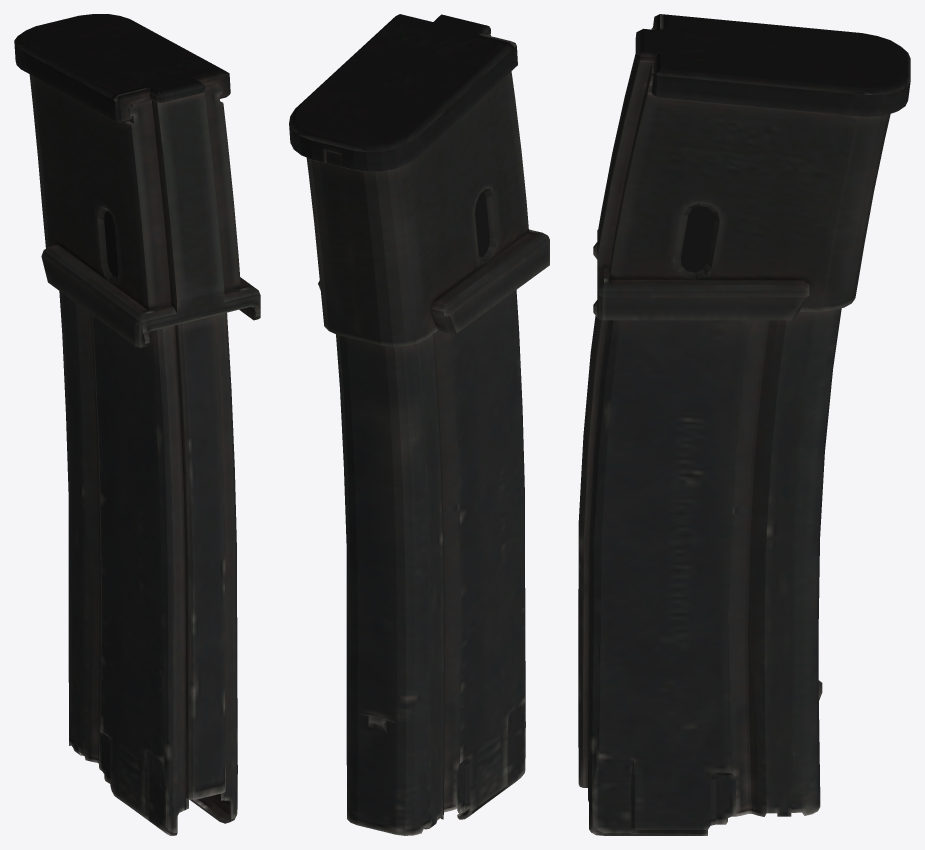
3 views of the same model, side by side, from view 1: azimuth 30°, elevation 25°; view 2: azimuth 150°, elevation 25°; view 3: azimuth 270°, elevation 25° (orthographic). The views are drawn at different scales.
Parts seen in each view (by area): view 1: TW_5ba2657ed4351e0035628ff2_PZ_Import; view 2: TW_5ba2657ed4351e0035628ff2_PZ_Import; view 3: TW_5ba2657ed4351e0035628ff2_PZ_Import.
Part boxes in pixels (x1,y1,x2,y2): TW_5ba2657ed4351e0035628ff2_PZ_Import: (14, 14, 260, 835); TW_5ba2657ed4351e0035628ff2_PZ_Import: (289, 14, 549, 835); TW_5ba2657ed4351e0035628ff2_PZ_Import: (578, 14, 910, 835).
Size of the model in its own units: 0.0161 by 0.0347 by 0.0899.
Materials: 1 (1 with a texture image).
